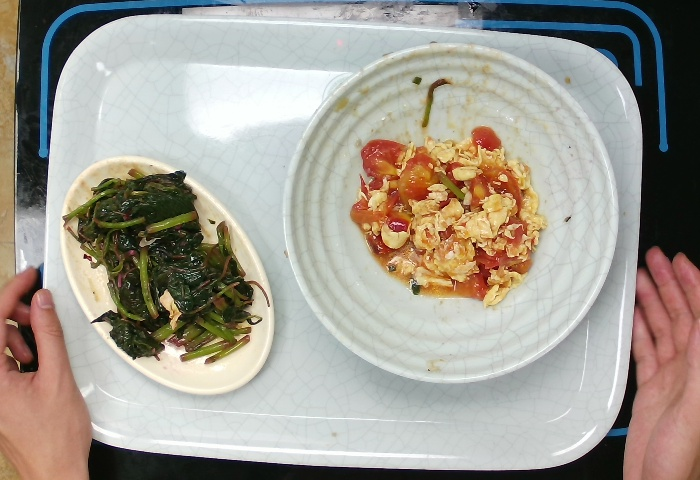JYsf-Da_Tang_Wan: (278, 38, 627, 393)
JYsf-Tuo_Yuan_Wan: (62, 154, 278, 402)
